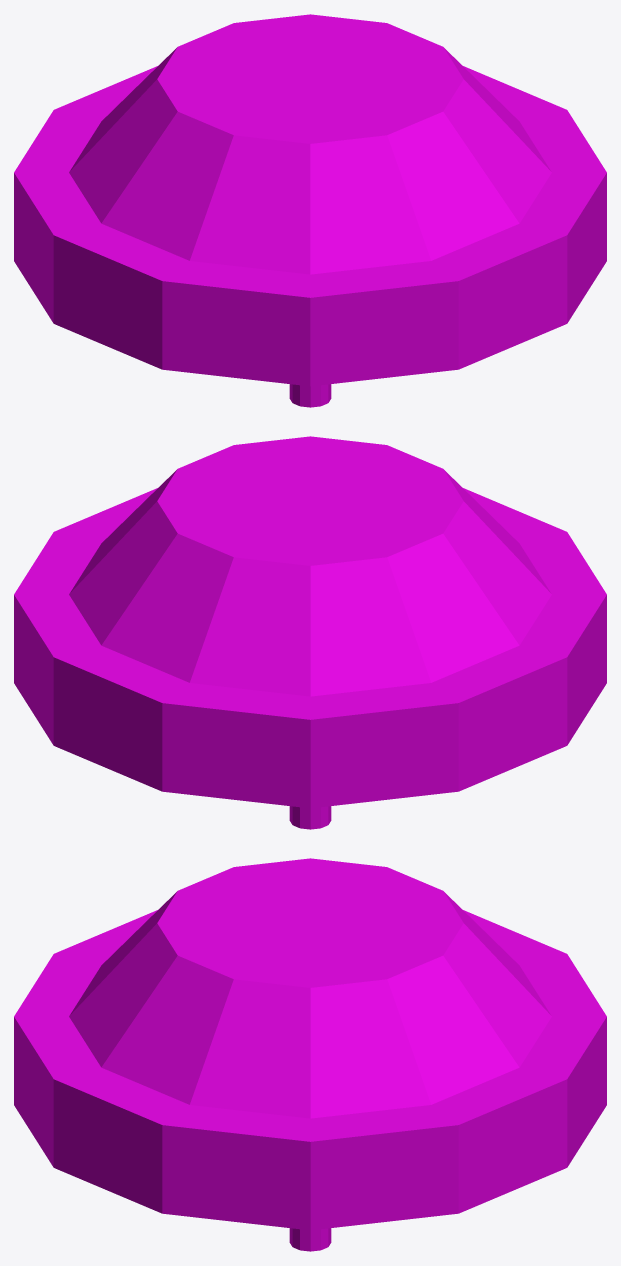
Rendered from SM_OverheadLightSingleLampCollider.fbx.
3 views of the same model, one above another, from view 1: azimuth 30°, elevation 25°; view 2: azimuth 150°, elevation 25°; view 3: azimuth 270°, elevation 25° (orthographic).
Visible parts, largest first — view 1: OverheadLightSingleLampCollision; view 2: OverheadLightSingleLampCollision; view 3: OverheadLightSingleLampCollision.
Part boxes in pixels (left/top/right/bottom): OverheadLightSingleLampCollision: left=14, top=14, right=606, bottom=407; OverheadLightSingleLampCollision: left=14, top=436, right=606, bottom=829; OverheadLightSingleLampCollision: left=14, top=858, right=606, bottom=1251.
Bounding box in the file's own units: 44.4 × 26.41 × 44.4.
